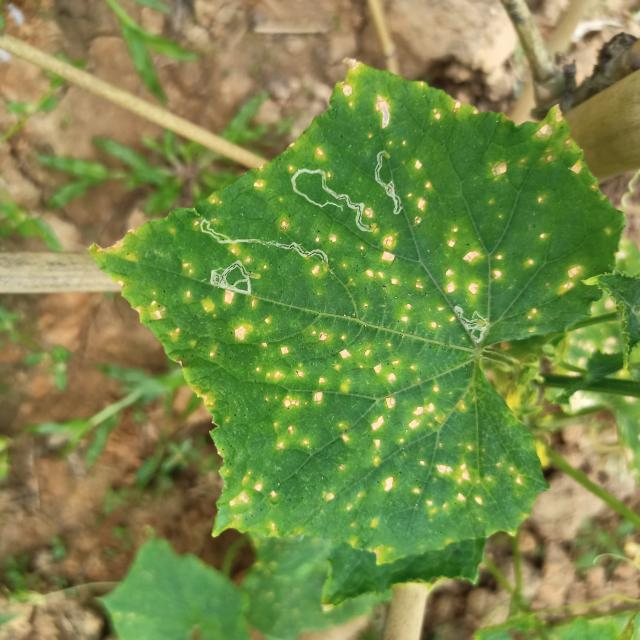disease_cucumber: (113, 280, 531, 558), (243, 64, 585, 330)
